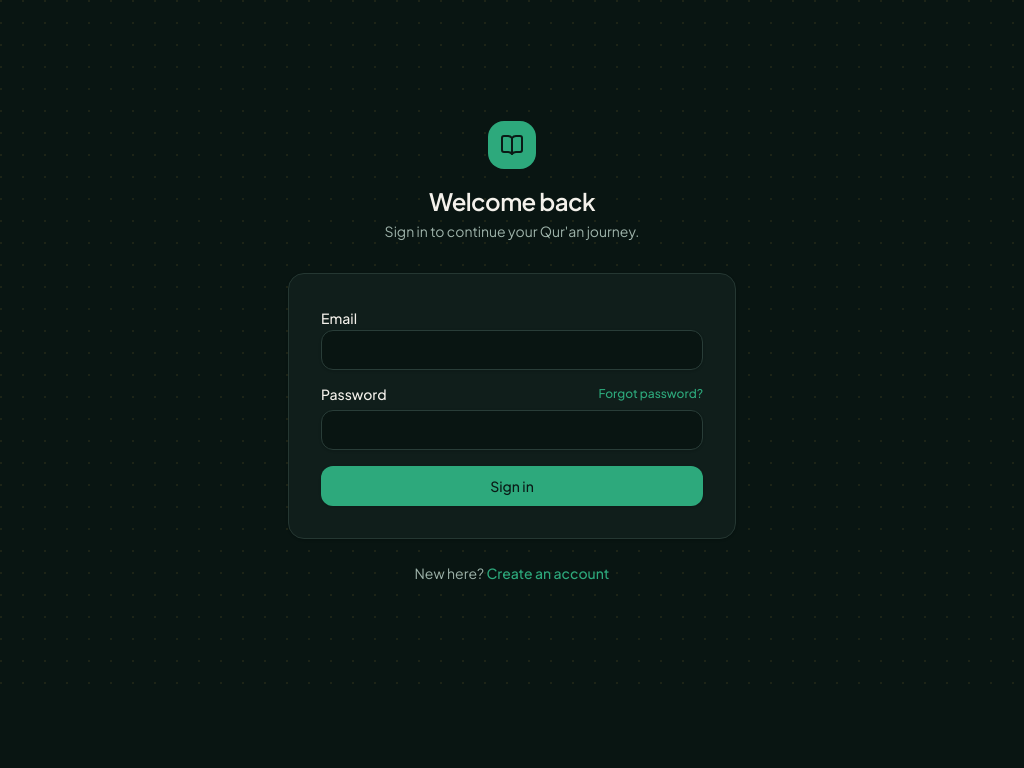
it: LoginPage › shows an error message when sign in fails
Type "aisha@example.com" into the field labelled "Email" at {"x": 512, "y": 350}, box [321,330,703,370]
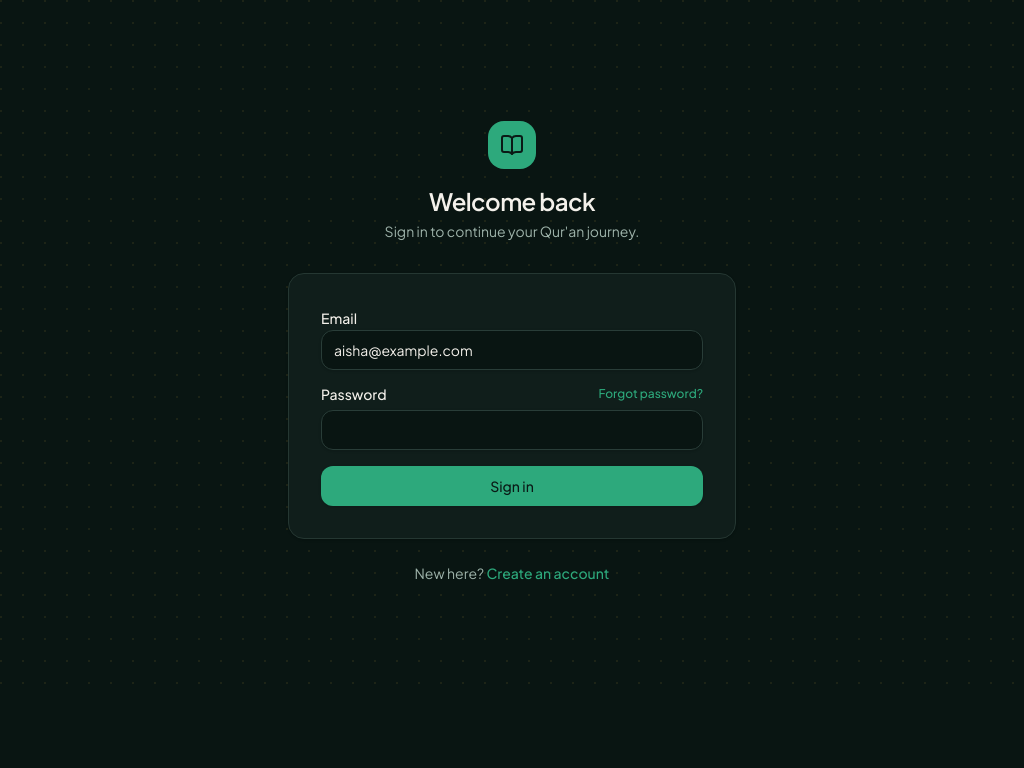
Type "wrong" into the password field labelled "Password" at {"x": 512, "y": 430}, box [321,410,703,450]
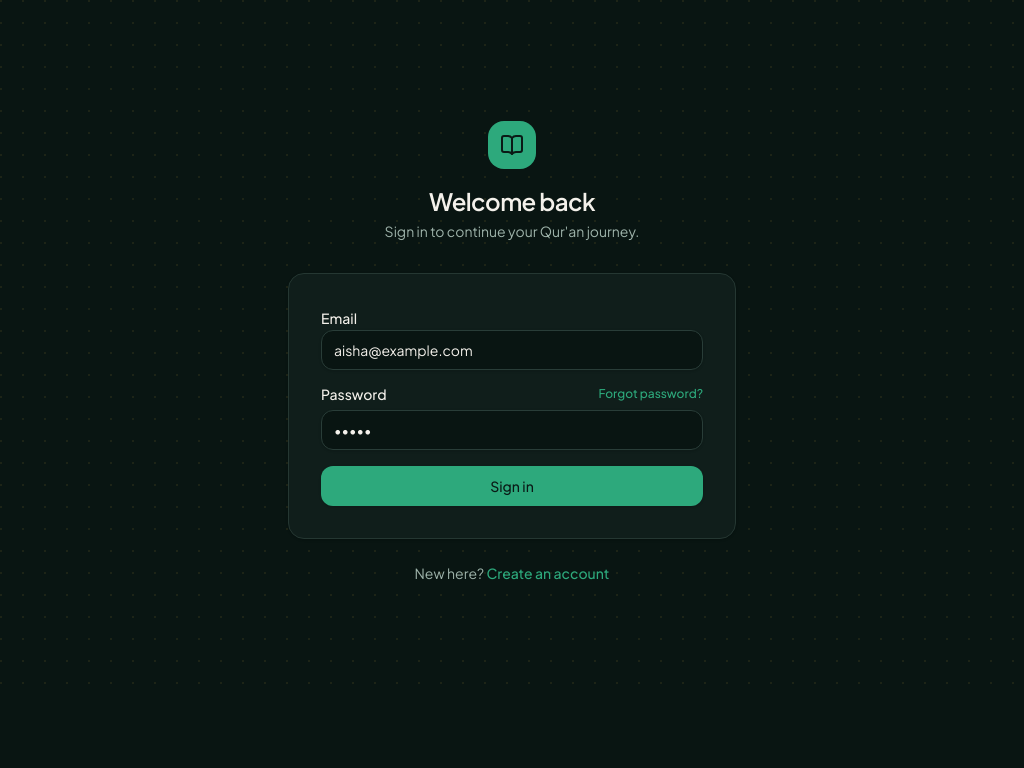
Click the button "Sign in" at {"x": 512, "y": 486}, box [321,466,703,506]
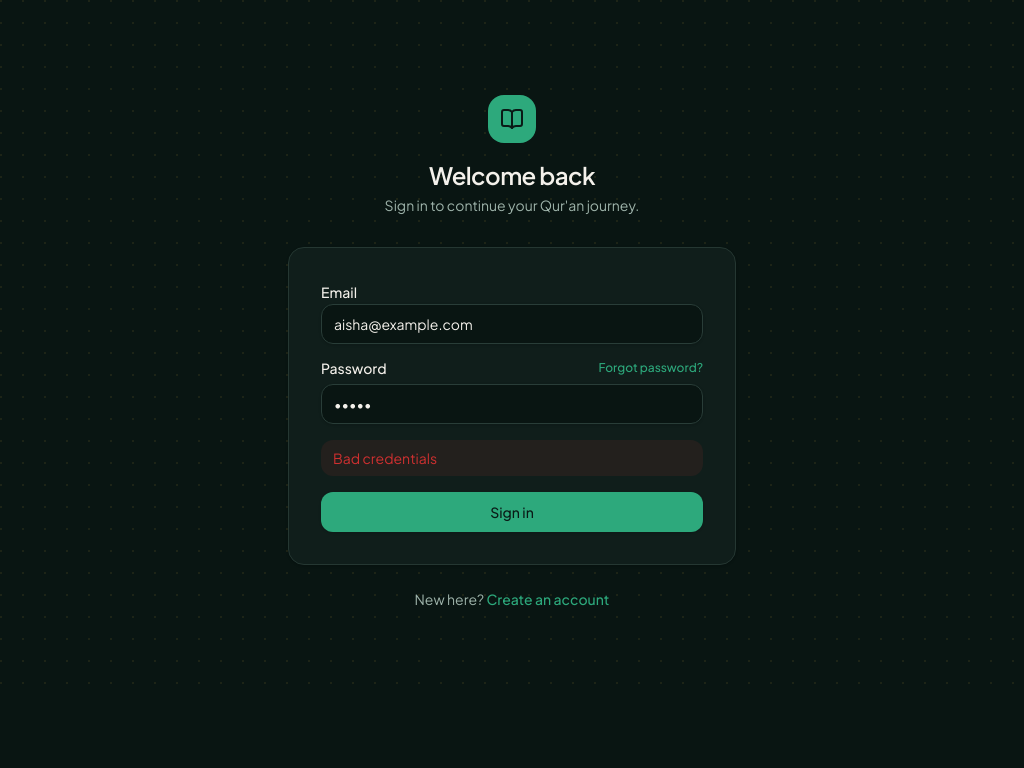
expect the text "Bad credentials" is shown: met, box [321,440,703,476]
